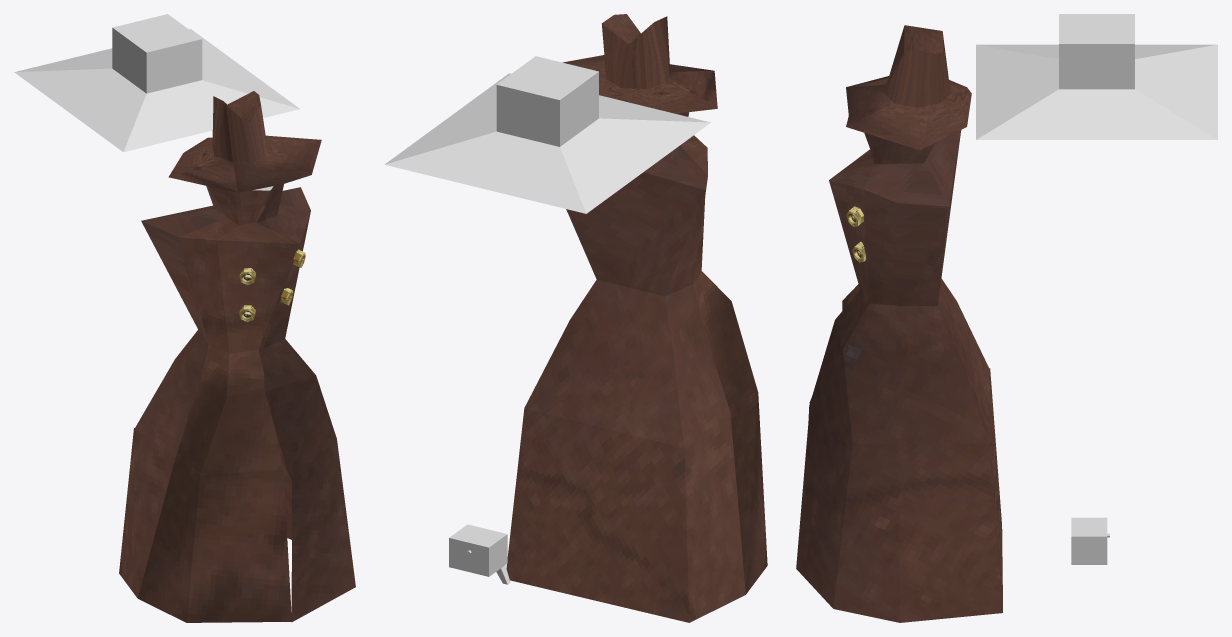
File: TNO_Chief.glb
The picture shows the model from 3 angles, left to right: view 1: azimuth 30°, elevation 25°; view 2: azimuth 150°, elevation 25°; view 3: azimuth 270°, elevation 25°; orthographic projection. The views are drawn at different scales.
Parts seen in each view (by area): view 1: Chief, Cube.003, Hat; view 2: Chief, Cube.003, Hat, Nightstand; view 3: Chief, Cube.003, Hat, Nightstand.
Part boxes in pixels (x1,y1,x2,y2): Chief: (119,184,355,622); Cube.003: (14,14,299,152); Hat: (168,91,321,192); Chief: (506,112,767,622); Cube.003: (385,56,710,213); Hat: (562,14,717,113); Nightstand: (449,524,507,576); Chief: (796,130,1002,622); Cube.003: (976,14,1217,139); Hat: (846,25,971,150); Nightstand: (1071,517,1107,564).
Bounding box in the file's own units: 2.78 × 6.67 × 4.71.
4 materials, 3 textured.
